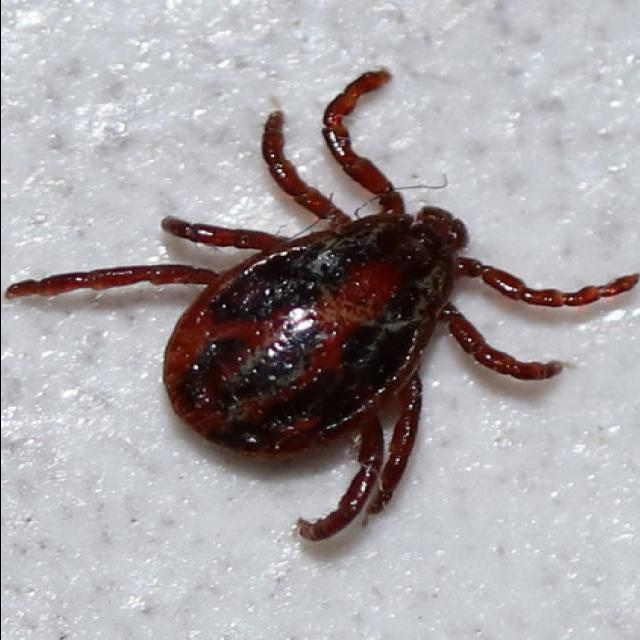Dermacentor Reticulatus-M: (5, 70, 635, 544)
